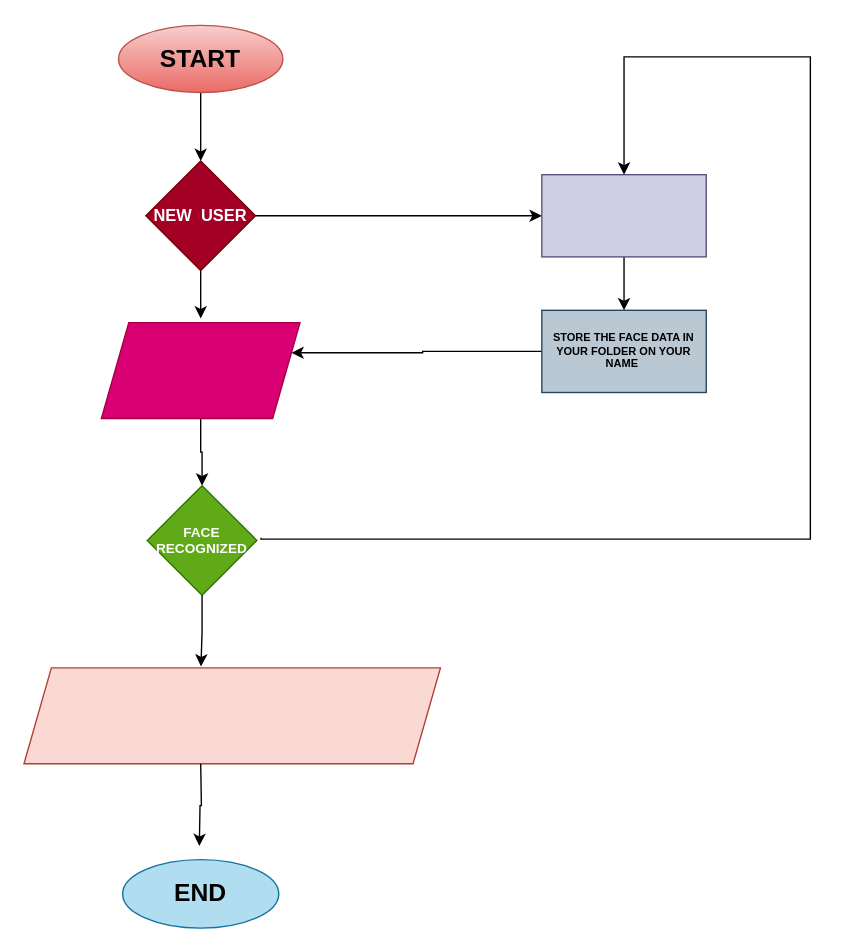
The diagram is 845 pixels wide and 952 high, and some of its shapes have lost their labels. The shapes that lost their labels are listed below. From the top down, each one's box as (x1, y1, x2, y2) in pixels, then its label:
(540, 173, 706, 257): GIVE YOUR PHOTOGRAPH
(100, 321, 300, 419): RECOGNIZE THE FACE
(23, 667, 440, 764): STORE IN CSV FILE WITH RECOGNIGATION NUMBER AND DATA TIME OF ENTRY
